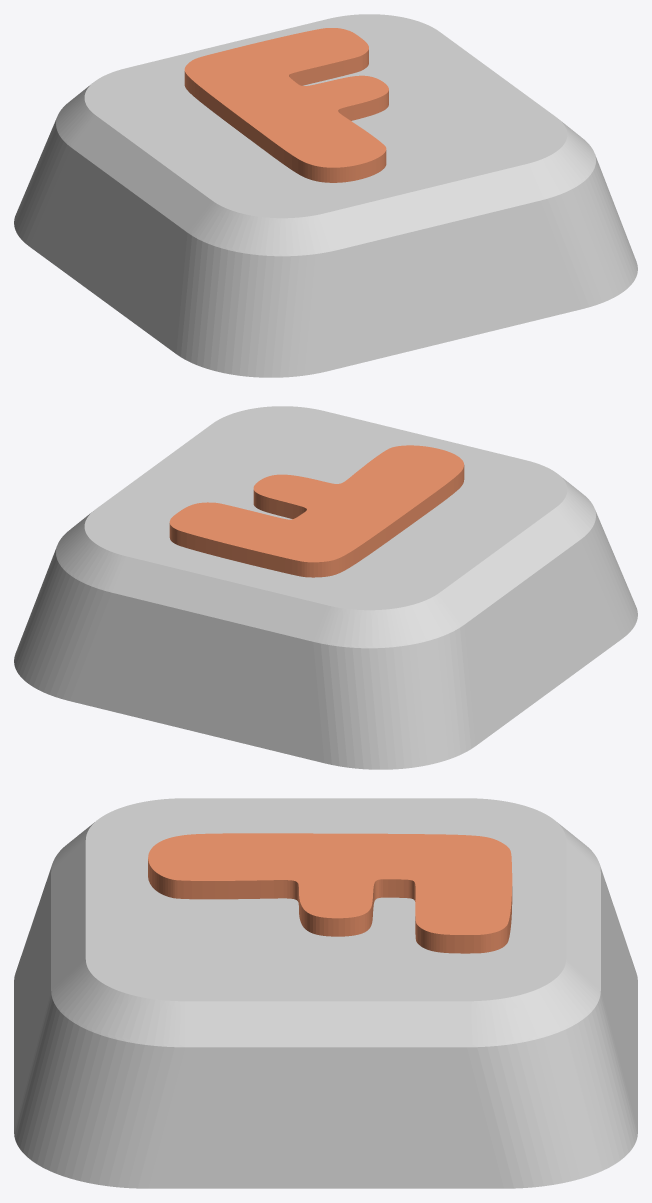
Rendered from cap-F.glb.
The picture shows the model from 3 angles, top to bottom: view 1: azimuth 30°, elevation 25°; view 2: azimuth 150°, elevation 25°; view 3: azimuth 270°, elevation 25°; orthographic projection. The views are drawn at different scales.
Parts seen in each view (by area): view 1: cap_0, glyph_1; view 2: cap_0, glyph_1; view 3: cap_0, glyph_1.
Boxes of the visible parts, left/top/right/bottom form: cap_0: left=14, top=14, right=637, bottom=377; glyph_1: left=184, top=28, right=388, bottom=182; cap_0: left=14, top=406, right=637, bottom=769; glyph_1: left=169, top=445, right=464, bottom=577; cap_0: left=14, top=798, right=637, bottom=1188; glyph_1: left=148, top=833, right=512, bottom=953.
Size of the model in its own units: 18 by 5.59 by 18.
